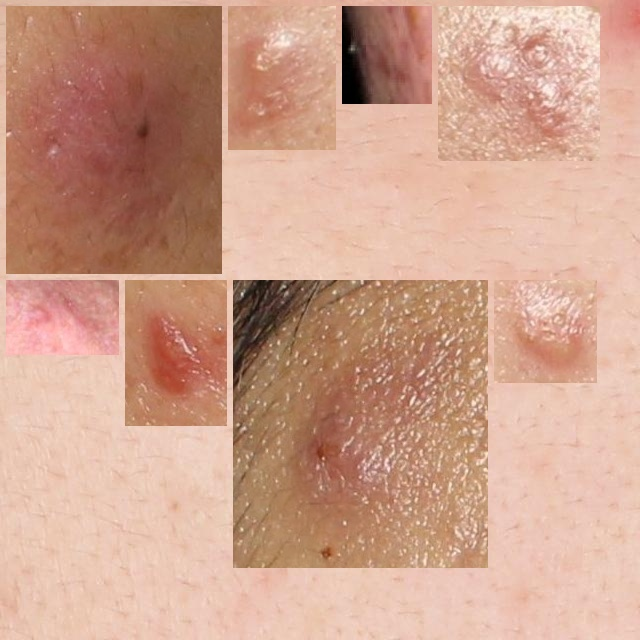nodule: (241, 288, 480, 560), (14, 14, 214, 266), (446, 14, 592, 153), (236, 14, 328, 142), (133, 288, 219, 418), (502, 288, 589, 375), (349, 14, 424, 96), (14, 288, 111, 347)
